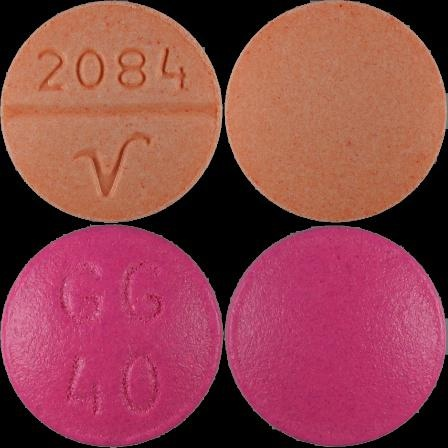50436-3028: (0, 0, 224, 224)
